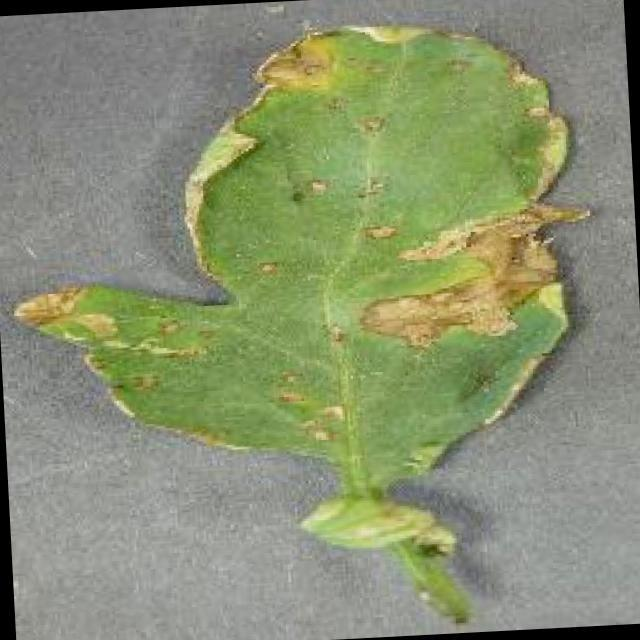Tomato bacterial spot leaf: (0, 5, 625, 581)
